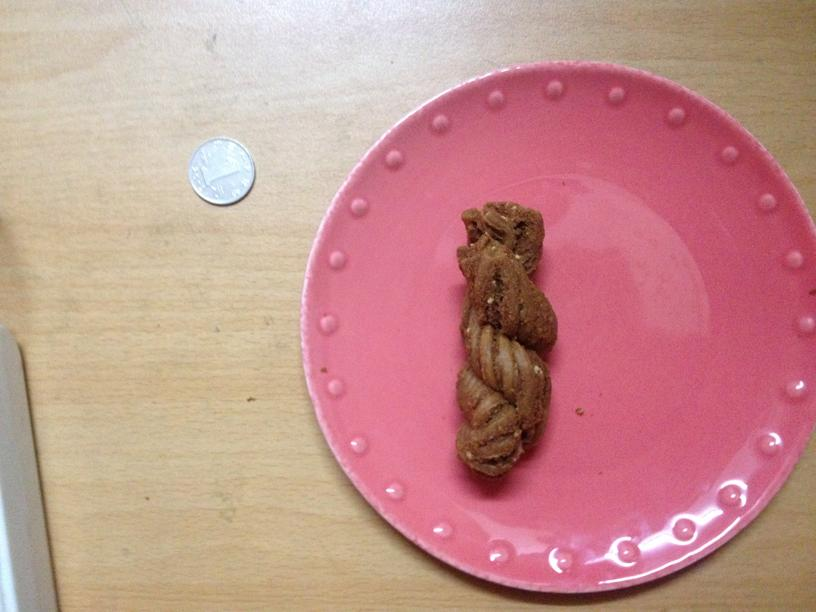coin: (188, 136, 255, 205)
fired_dough_twist: (451, 204, 559, 476)
